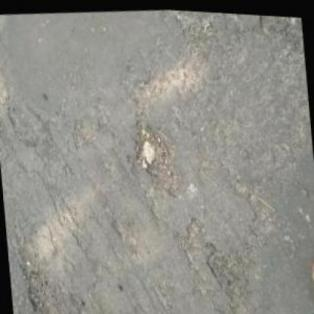Hueco: (129, 111, 184, 198), (177, 210, 203, 258), (204, 244, 229, 279), (70, 116, 95, 150)
